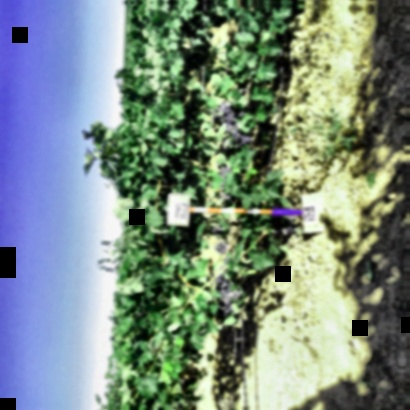QR: (304, 204, 317, 220), (176, 202, 189, 217)
